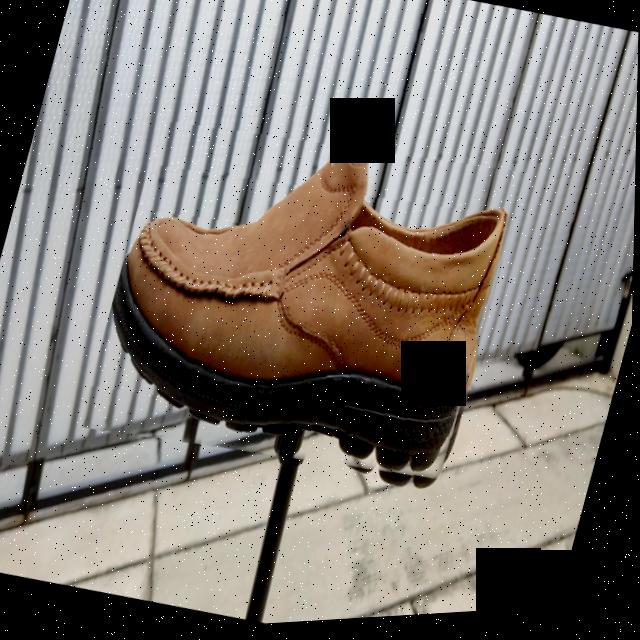shoe: (79, 82, 532, 519)
